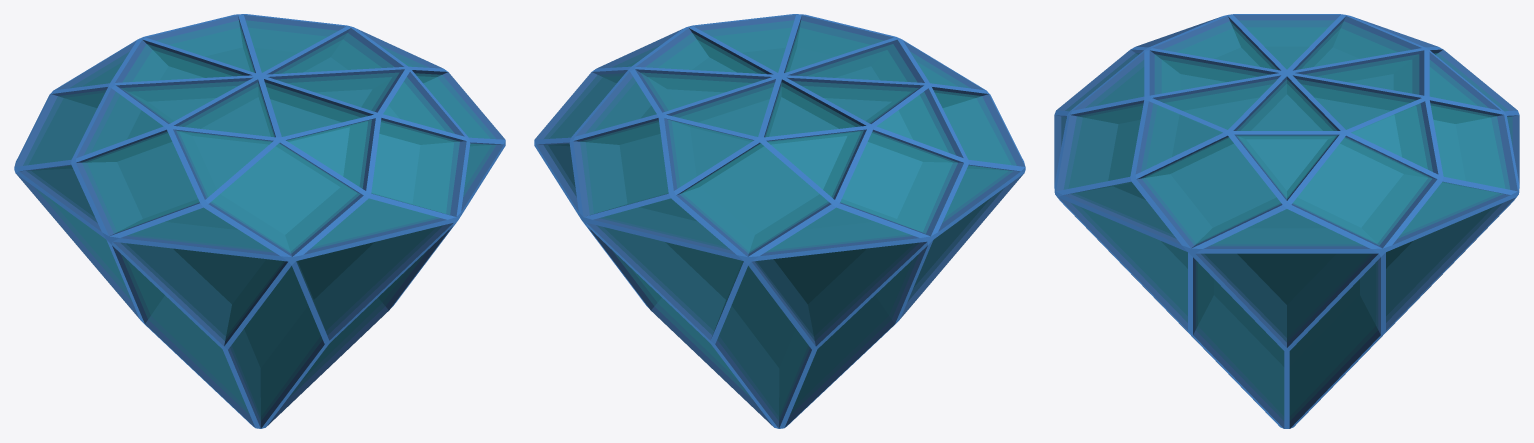
Rendered from netObjex_diamond_003.glb.
3 views of the same model, side by side, from view 1: azimuth 30°, elevation 25°; view 2: azimuth 150°, elevation 25°; view 3: azimuth 270°, elevation 25° (orthographic).
Parts seen in each view (by area): view 1: Gem.003, Gem.004; view 2: Gem.003, Gem.004; view 3: Gem.003, Gem.004.
Boxes of the visible parts, bbox=[...] form: Gem.003: bbox=[14, 14, 505, 428]; Gem.004: bbox=[23, 20, 495, 420]; Gem.003: bbox=[534, 14, 1025, 428]; Gem.004: bbox=[544, 20, 1016, 420]; Gem.003: bbox=[1054, 14, 1519, 428]; Gem.004: bbox=[1061, 20, 1512, 420].
Bounding box in the file's own units: 1.91 × 1.6 × 1.91.
3 materials, 2 textured.
